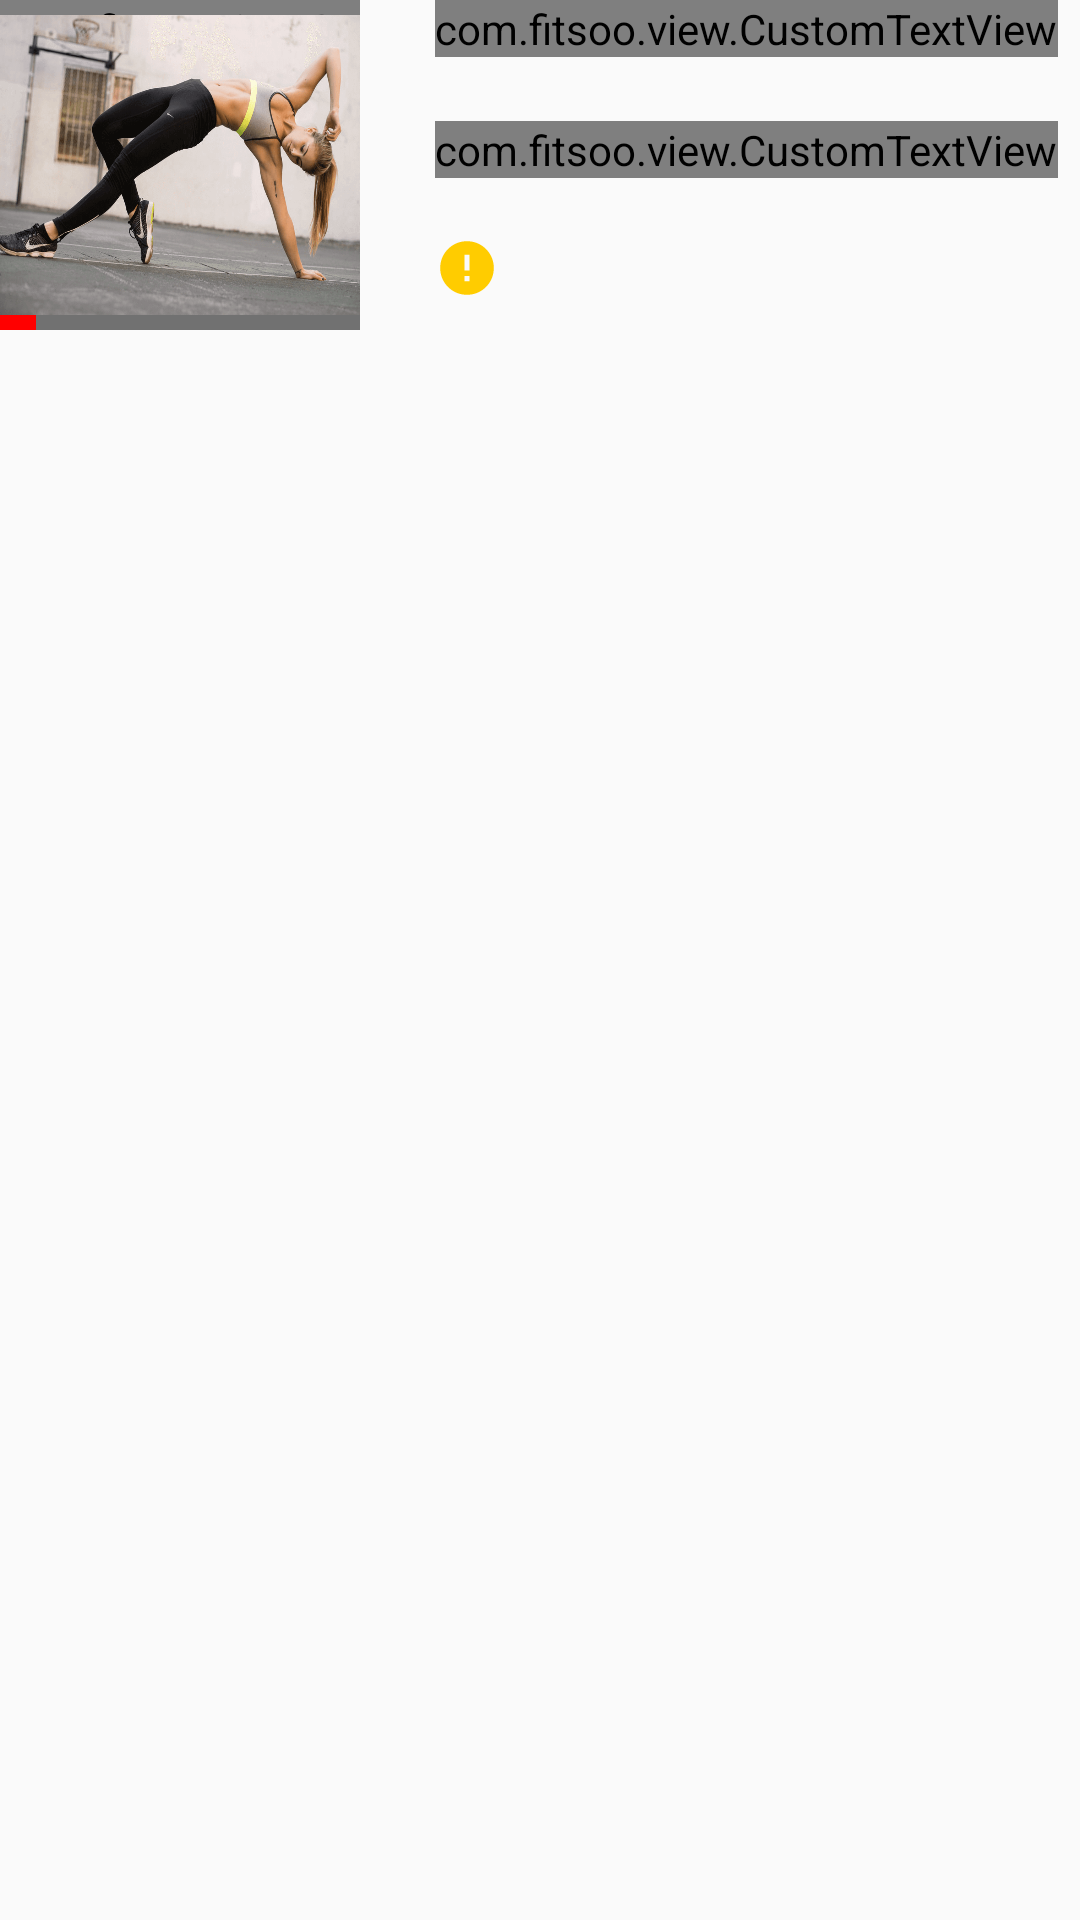

Point at icon controls on the screen. Image size 1080*1920, points as [x,y].
warning: [467,268]
